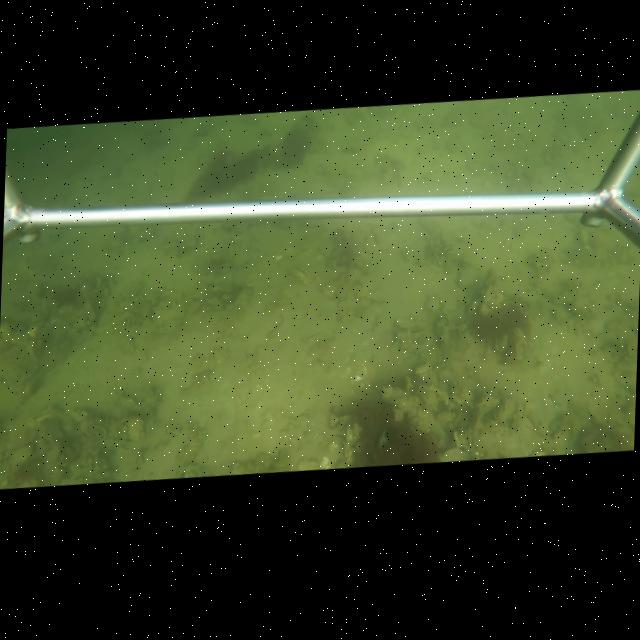Oyster-Open: (285, 262, 311, 285)
